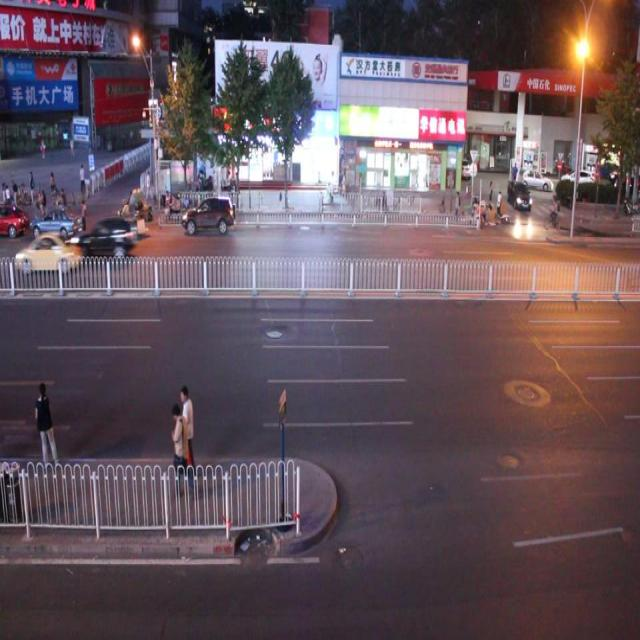car: (74, 214, 138, 264), (19, 228, 79, 272), (182, 191, 237, 233), (30, 199, 86, 240)
